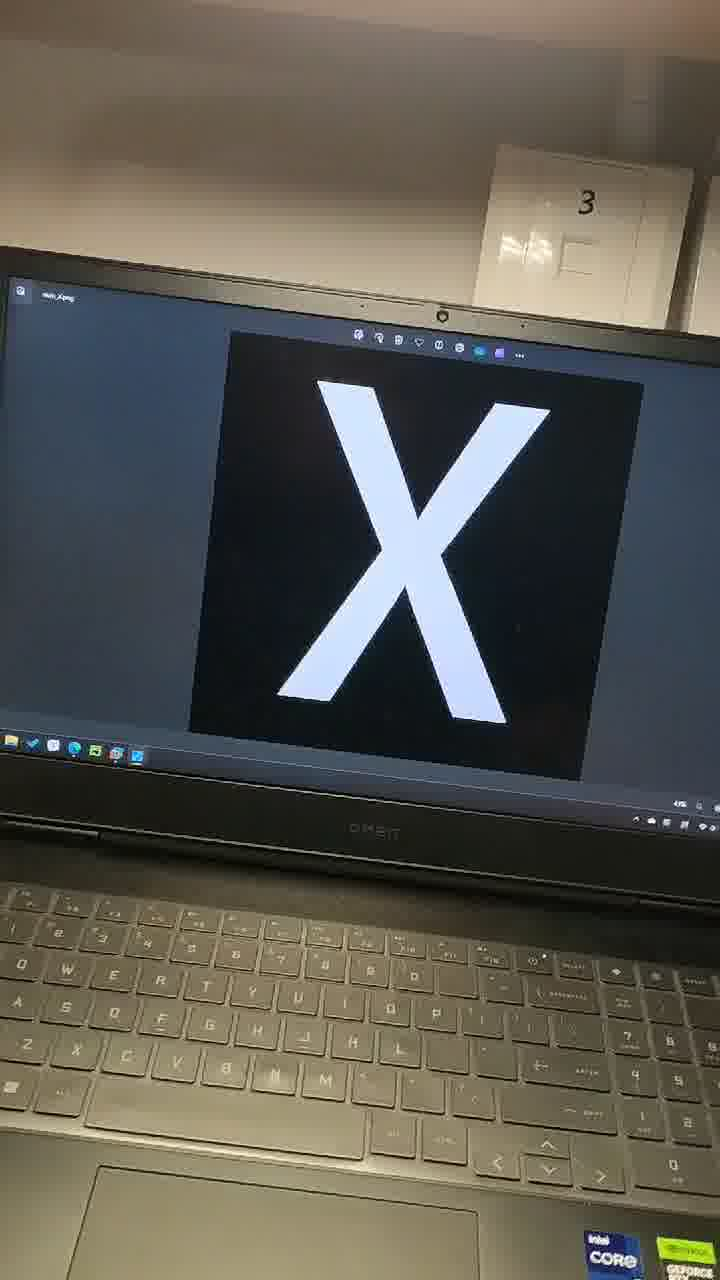X: (202, 310, 597, 794)
